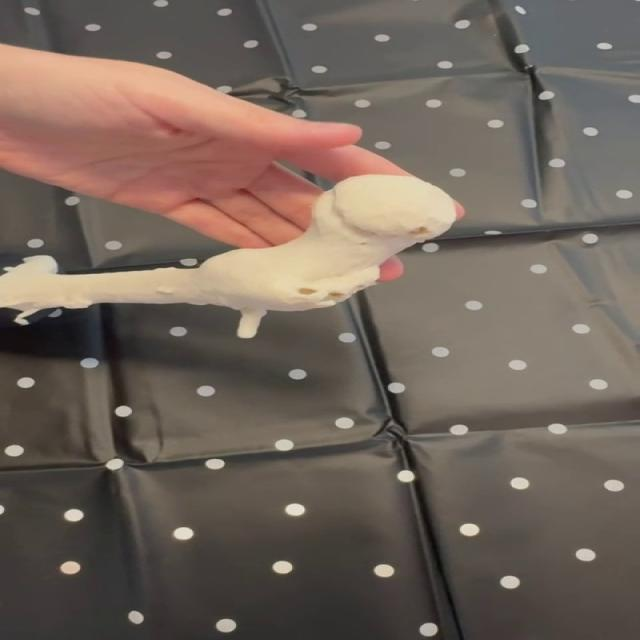bones: (0, 176, 454, 338)
